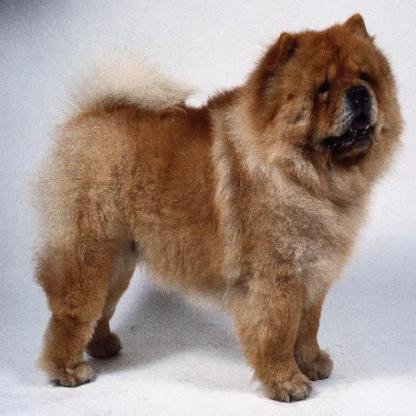chow: (31, 12, 404, 404)
